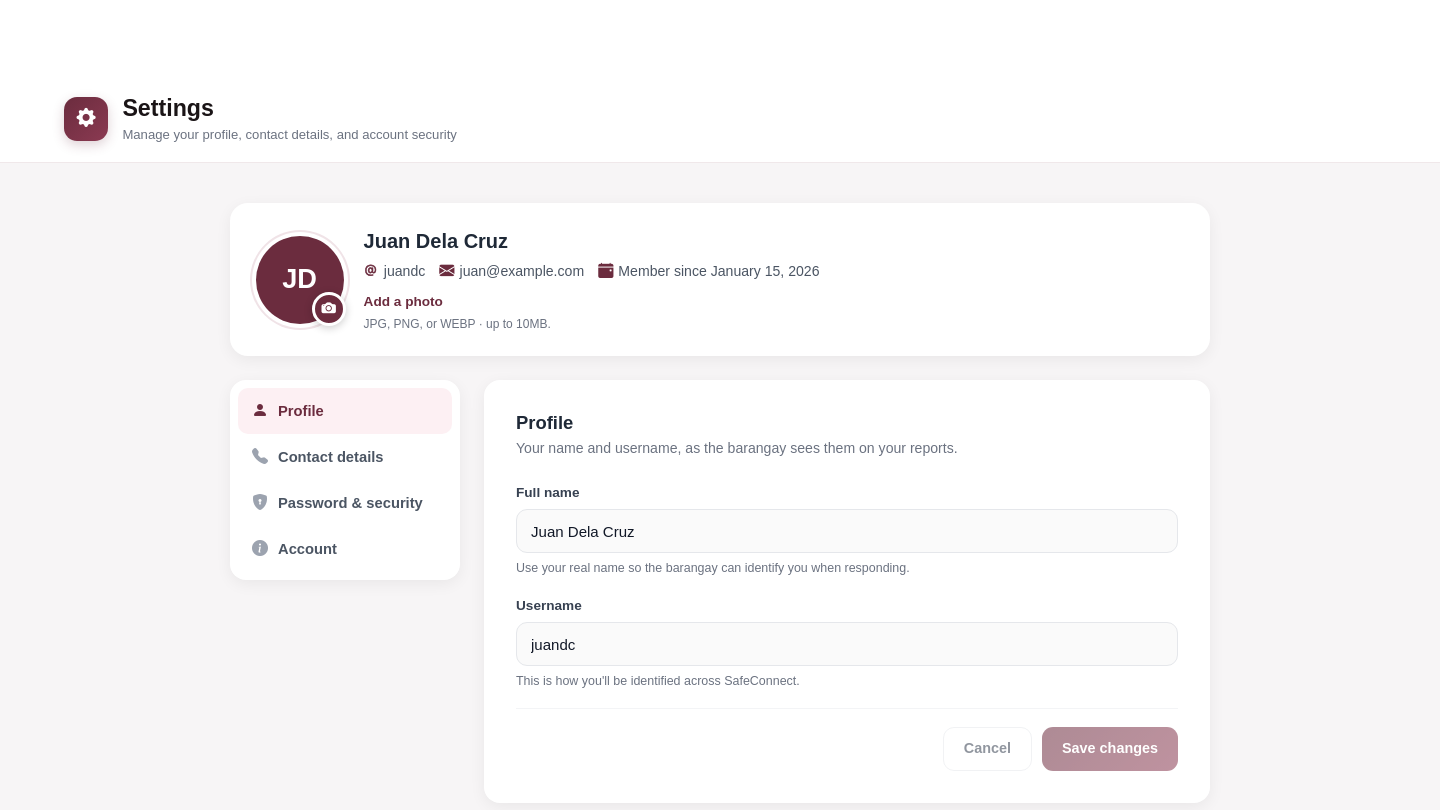
Test: shows a profile summary and section navigation
Expected: the field labelled "Full name" holds "Juan Dela Cruz", top-left (516, 509), bottom-right (1178, 553)
Expected: the text "juandc" is shown, top-left (364, 260), bottom-right (425, 282)
Click the button "Account": (345, 549) top-left (238, 526), bottom-right (452, 572)
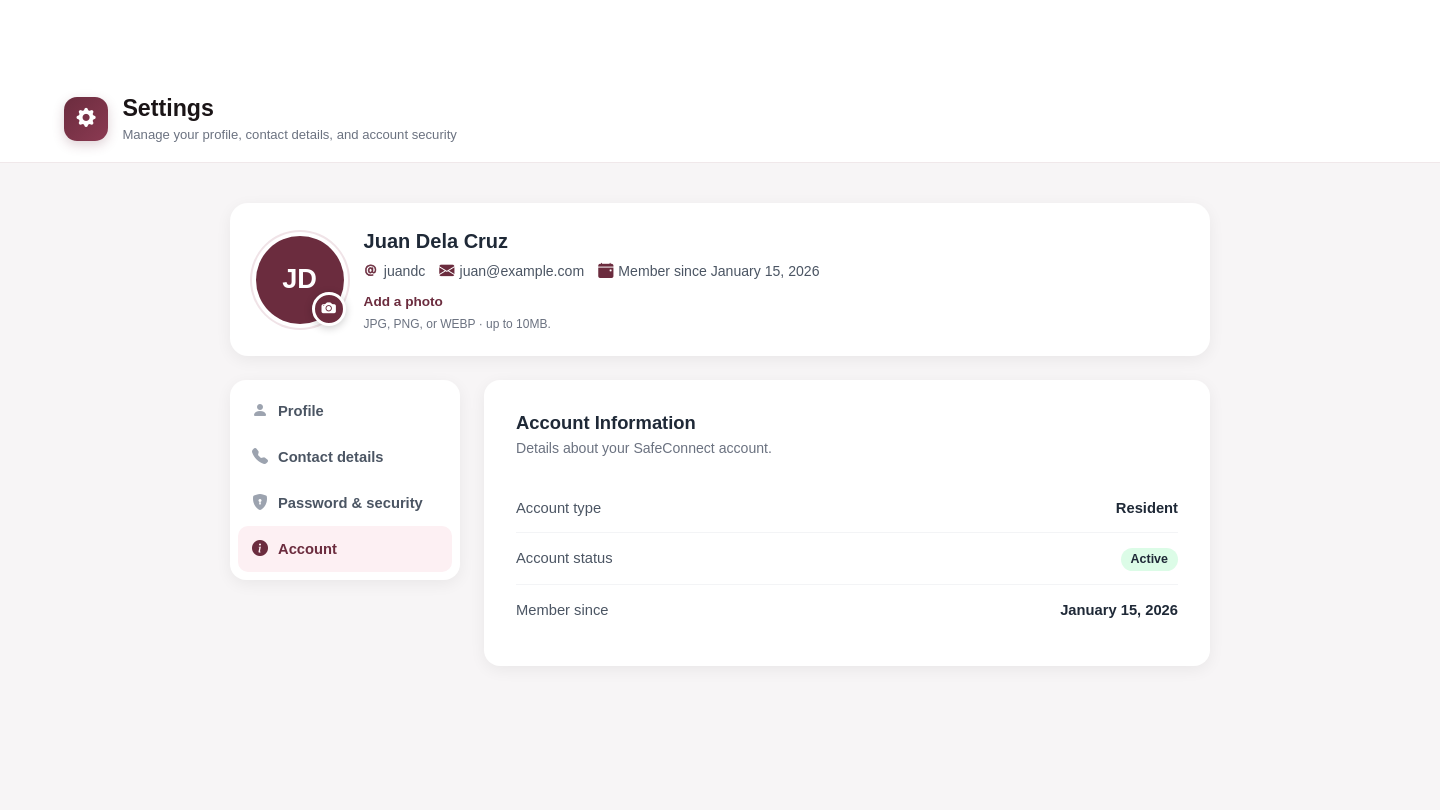
Expected: the text "Active" is shown, top-left (1121, 548), bottom-right (1178, 571)
